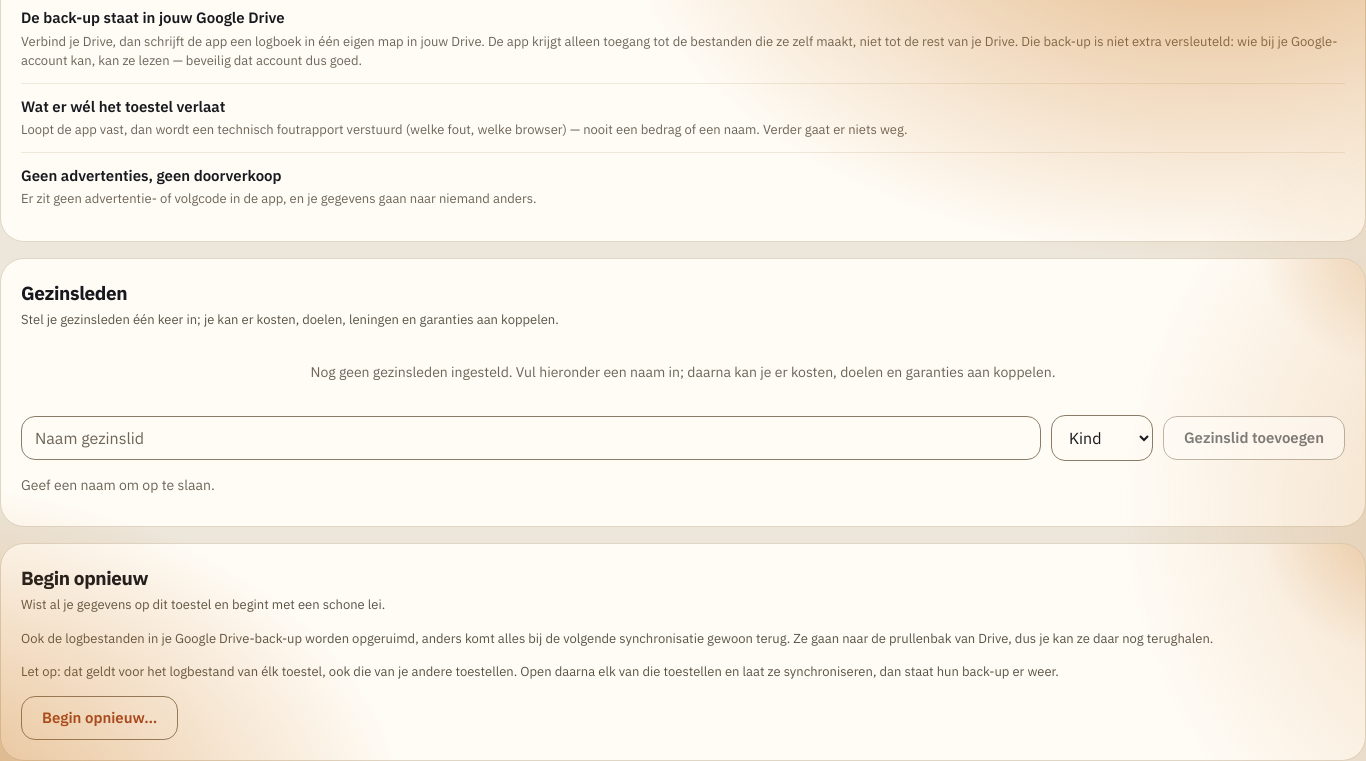
Test: InstellingenSectie — begin opnieuw › waarschuwt wanneer de back-up niet opgeruimd raakte terwijl Drive verbonden is
(page scrolled)
Click the button "Begin opnieuw…" at {"x": 100, "y": 718}, box [21,696,178,740]
(page scrolled)
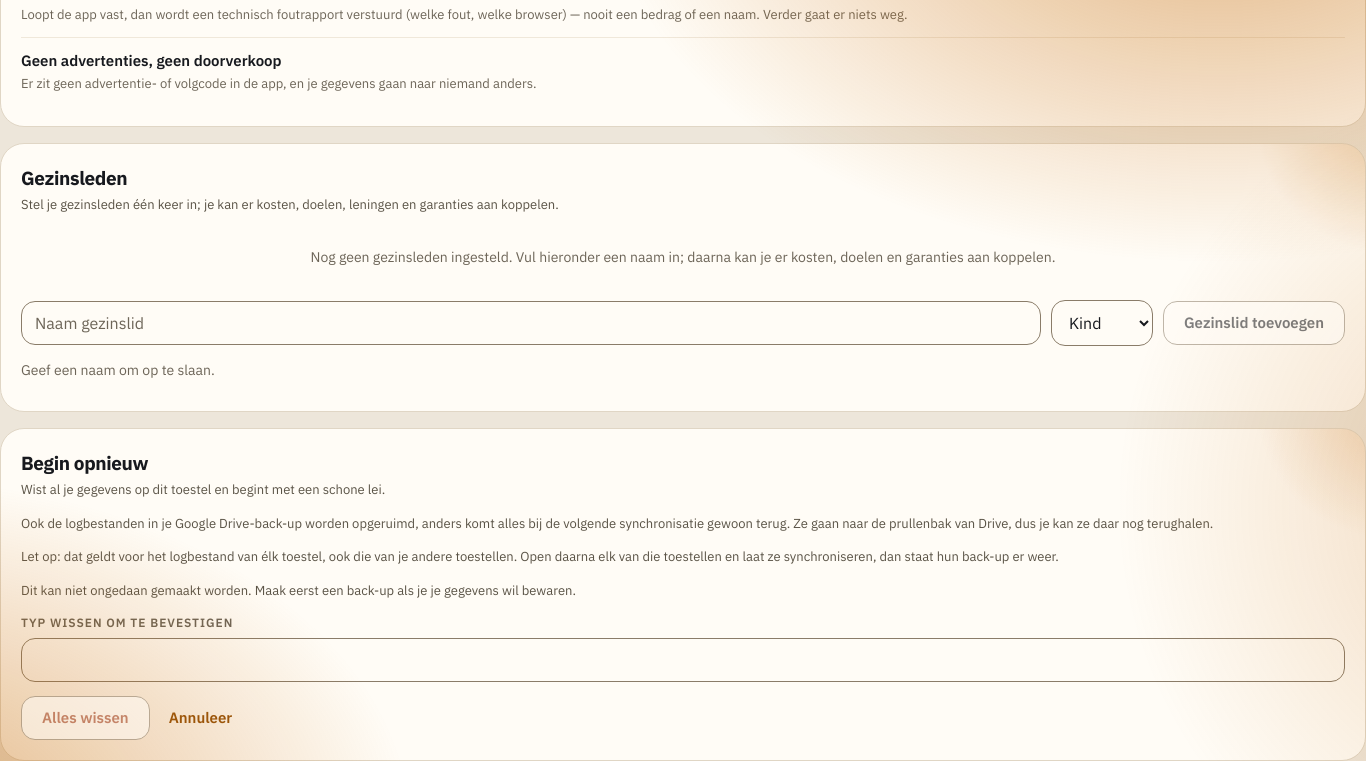
Type "WISSEN" into the field labelled "Typ WISSEN om te bevestigen" at {"x": 683, "y": 660}, box [21,638,1345,682]
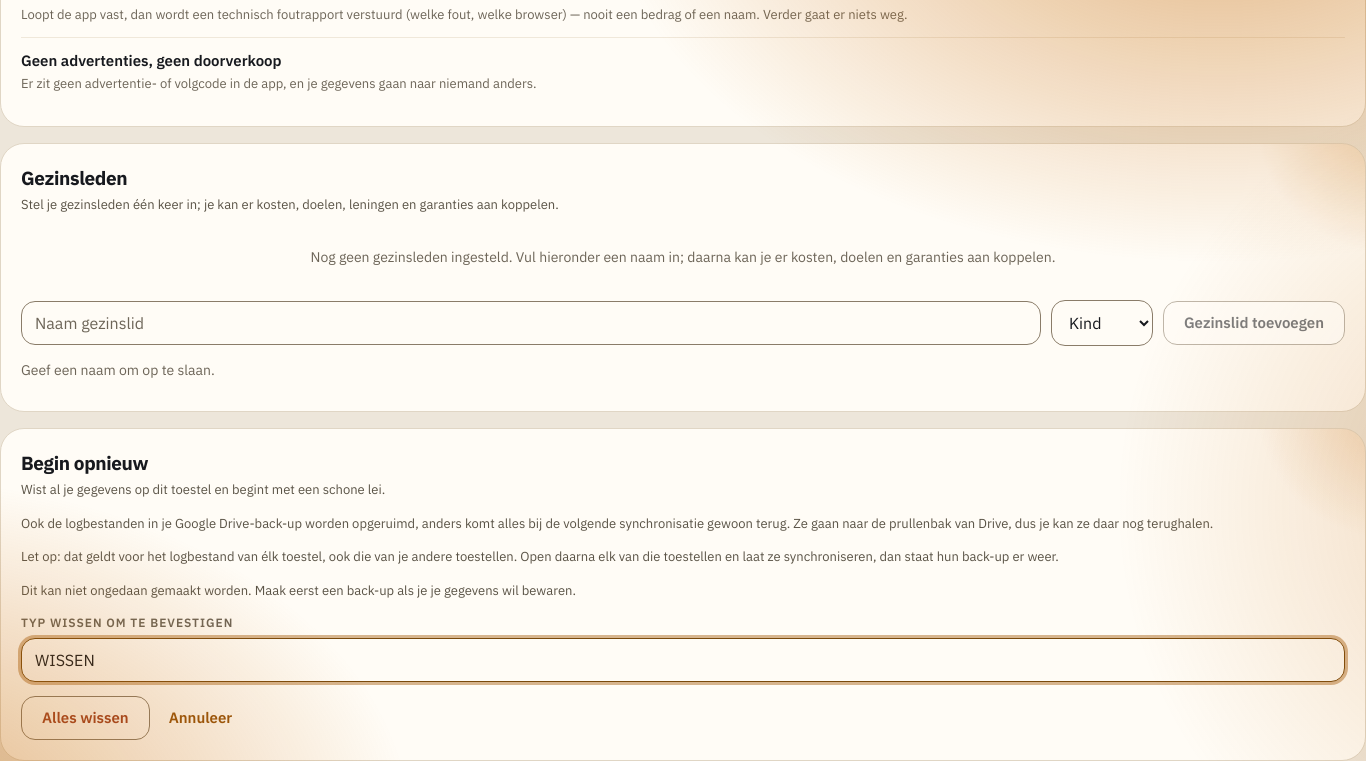
Click the button "Alles wissen" at {"x": 85, "y": 718}, box [21,696,150,740]
(page scrolled)
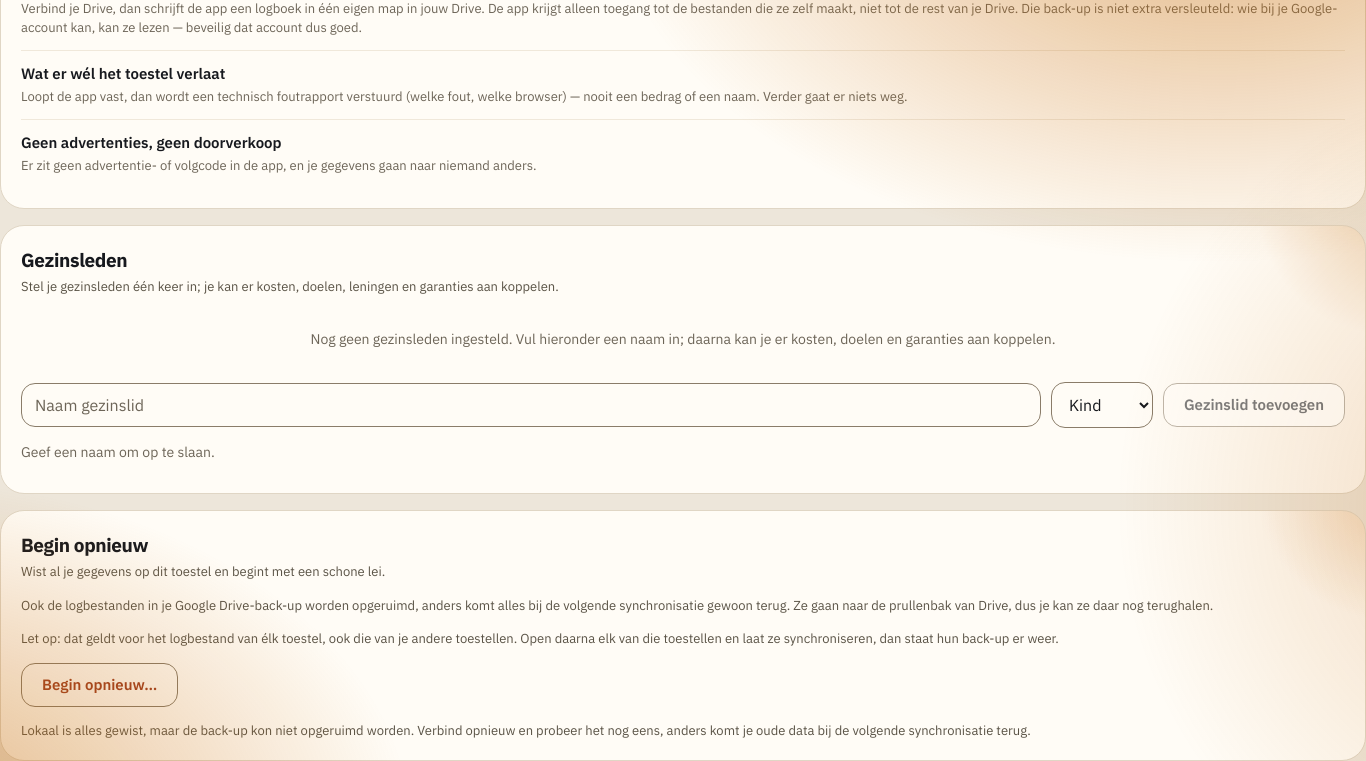
Expected: the text "Lokaal is alles gewist, maar de back-up kon niet opgeruimd worden. Verbind opnieuw en probeer het nog eens, anders komt " is shown, [21,722,1031,739]
